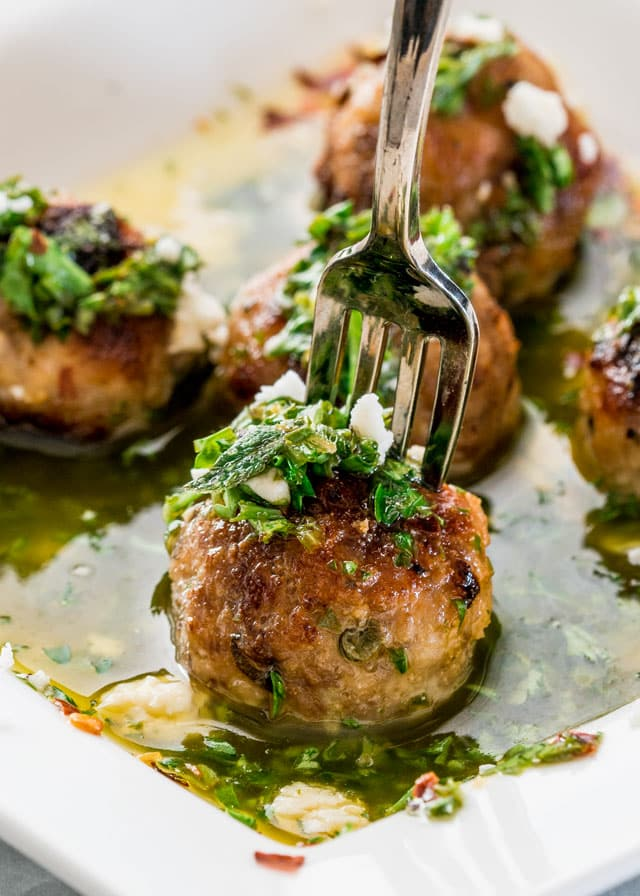meatballs: (13, 34, 640, 486), (196, 441, 486, 726)
